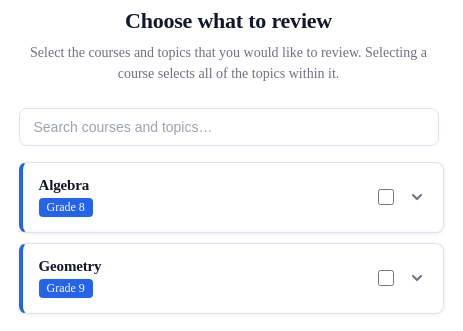
Test case: CourseList › filters to courses containing a matching topic when searching
Expected: the text "Algebra" is shown, [38, 177, 93, 194]
Type "quad" into the search field at [228, 127], box [18, 108, 438, 146]
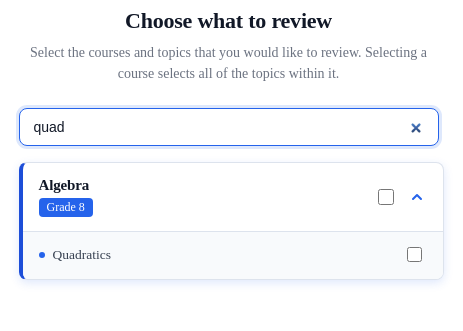
Expected: the text "Quadratics" is shown, [52, 246, 111, 262]
Now the text "Geometry" is gone
